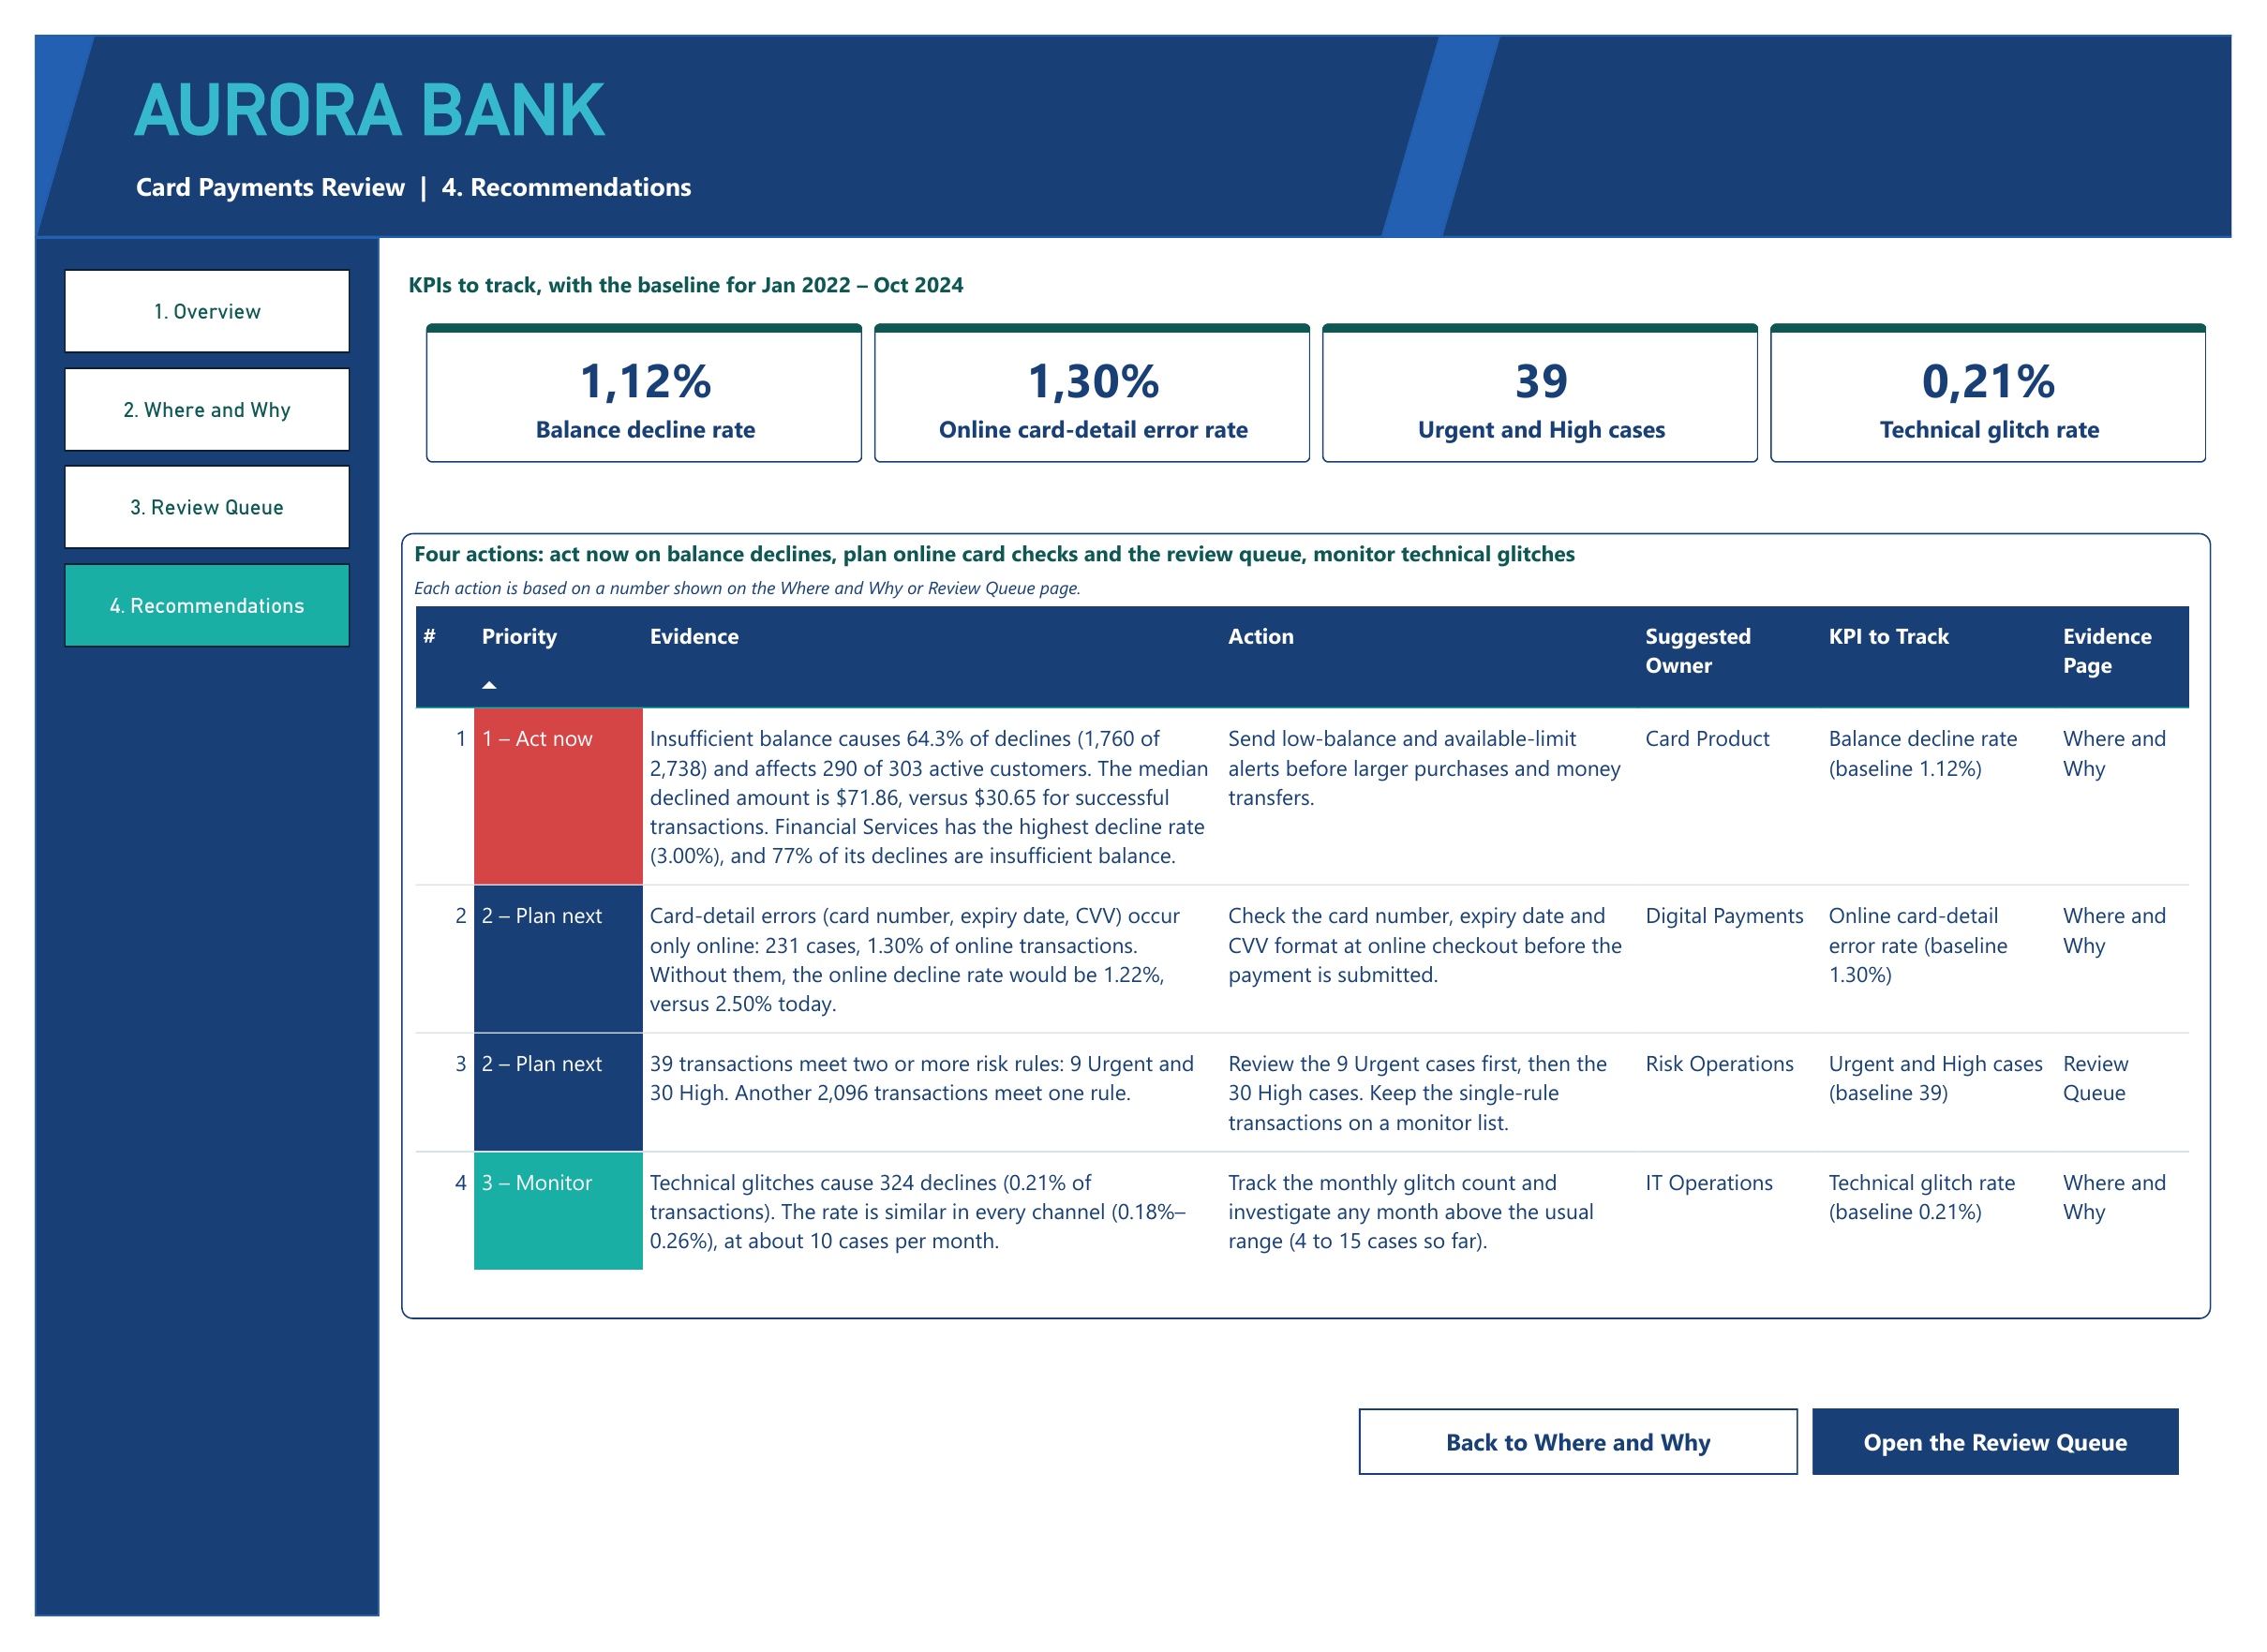

This screenshot's page, from the dashboard's own definition file:
{"tool":"powerbi","page":{"name":"4. Recommendations","canvas":[1500,1080],"ordinal":3},"visuals":[{"type":"shape","box":[0,0,1920,137.8],"z":0},{"type":"shape","box":[0,0,960,137.5],"z":1000},{"type":"shape","box":[960,0,960,137.5],"z":2000},{"type":"textbox","box":[62.5,18,345,67.5],"z":3000},{"type":"textbox","box":[64,86,600,34],"z":9500},{"type":"shape","box":[0,137.5,235,942.5],"z":10000},{"type":"pageNavigator","box":[20,160,195,260],"z":11000},{"type":"cardVisual","fields":{"Data":["_Measures.Balance Decline Rate","_Measures.Online Card Details Rate","_Measures.Review Cases","_Measures.Technical Glitch Rate"]},"box":[250,160,1250,148.9],"z":20100},{"type":"tableEx","title":"Four actions: act now on balance declines, plan online card checks and the review queue, monitor technical glitches","fields":{"Values":["Recommendations.#","Recommendations.Priority","Recommendations.Evidence","Recommendations.Action","Recommendations.Suggested Owner","Recommendations.KPI to Track","Recommendations.Evidence Page"]},"box":[250,340,1235.6,536.7],"z":20200},{"type":"actionButton","box":[903.9,938,300,45],"z":20400},{"type":"actionButton","box":[1213.9,938,250,45],"z":20500}]}

Visuals, with their boxes on the page's 1500x1080 design canvas (x1, y1, x2, y2). These are canvas units, not pixel positions in the 2267x1652 screenshot, which may show the page scaled, cropped or inside an application window:
shape: x1=0, y1=0, x2=1920, y2=138
shape: x1=0, y1=0, x2=960, y2=138
shape: x1=960, y1=0, x2=1920, y2=138
textbox: x1=62, y1=18, x2=408, y2=86
textbox: x1=64, y1=86, x2=664, y2=120
shape: x1=0, y1=138, x2=235, y2=1080
pageNavigator: x1=20, y1=160, x2=215, y2=420
cardVisual - _Measures.Balance Decline Rate x _Measures.Online Card Details Rate: x1=250, y1=160, x2=1500, y2=309
"Four actions: act now on balance declines, plan online card checks and the review queue, monitor technical glitches" tableEx: x1=250, y1=340, x2=1486, y2=877
actionButton: x1=904, y1=938, x2=1204, y2=983
actionButton: x1=1214, y1=938, x2=1464, y2=983
